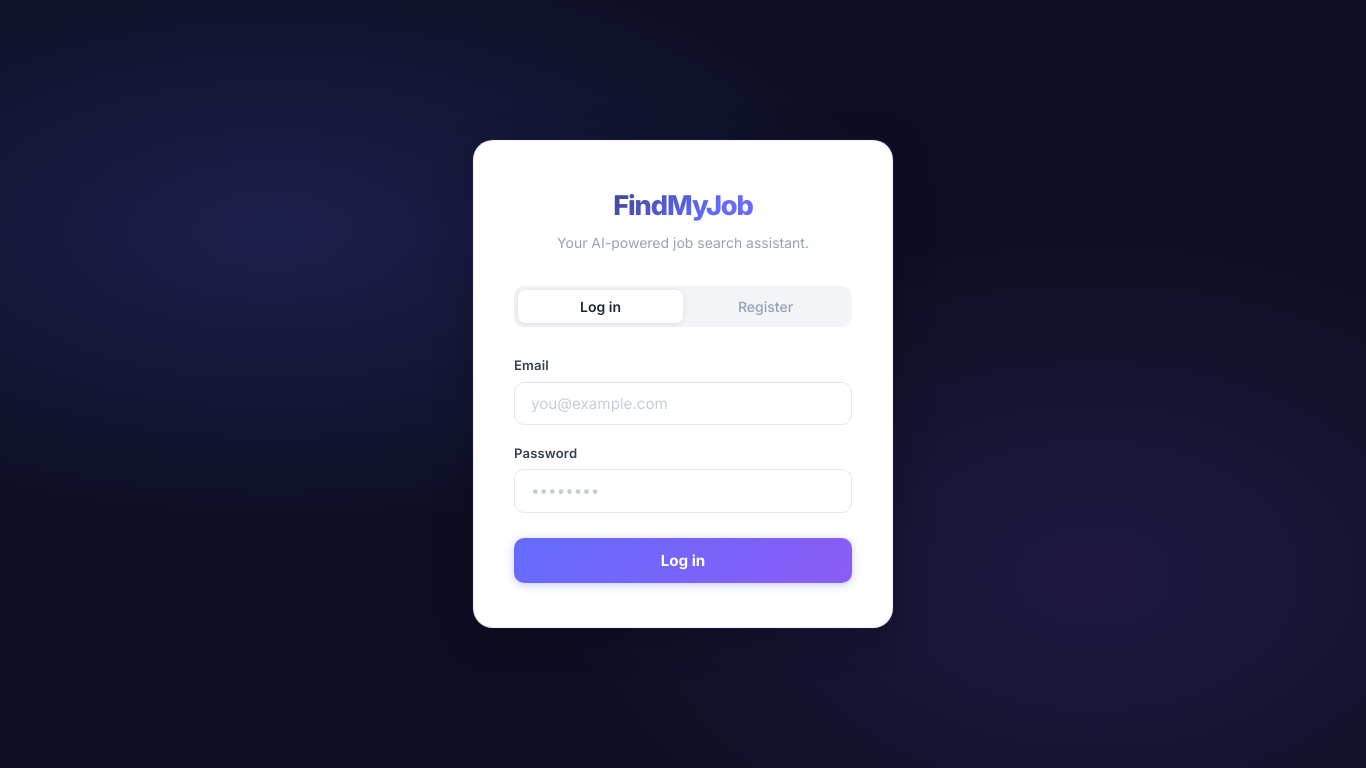
it: AuthPage › afișează eroarea primită de la server la login eșuat
In the field labelled "Email": x=683, y=403 [514,382,852,425], type "a@b.com"
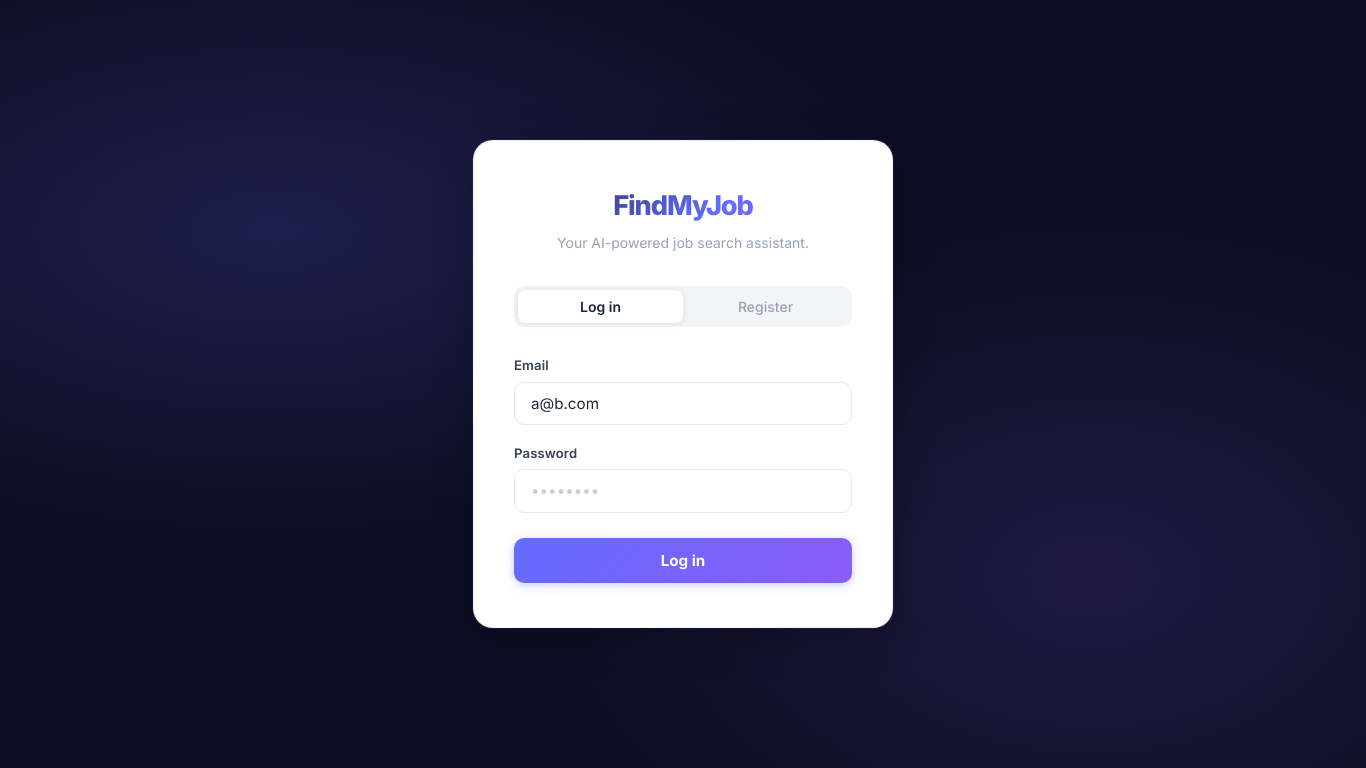
In the password field labelled "Password": x=683, y=491 [514,469,852,513], type "wrong"
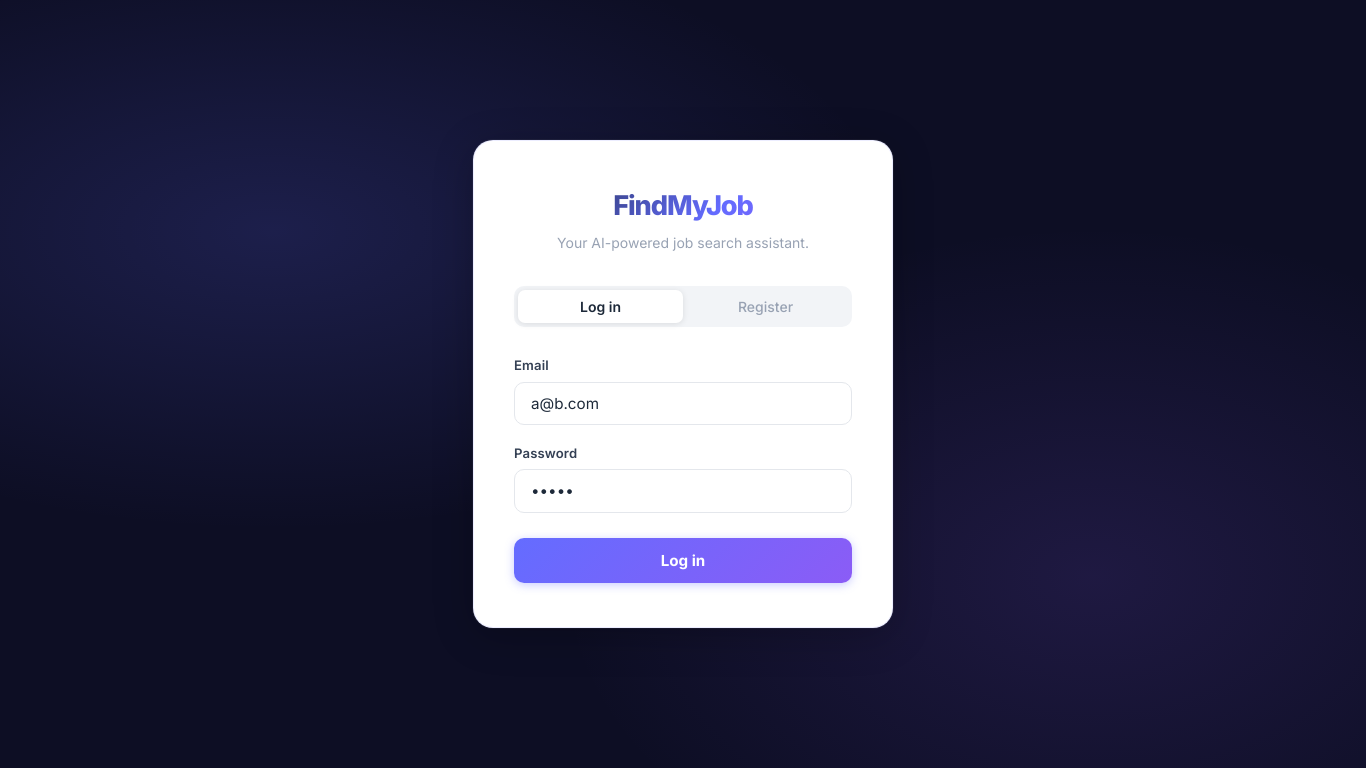
Click the button "Log in" below "Password": x=683, y=560 [514,538,852,583]
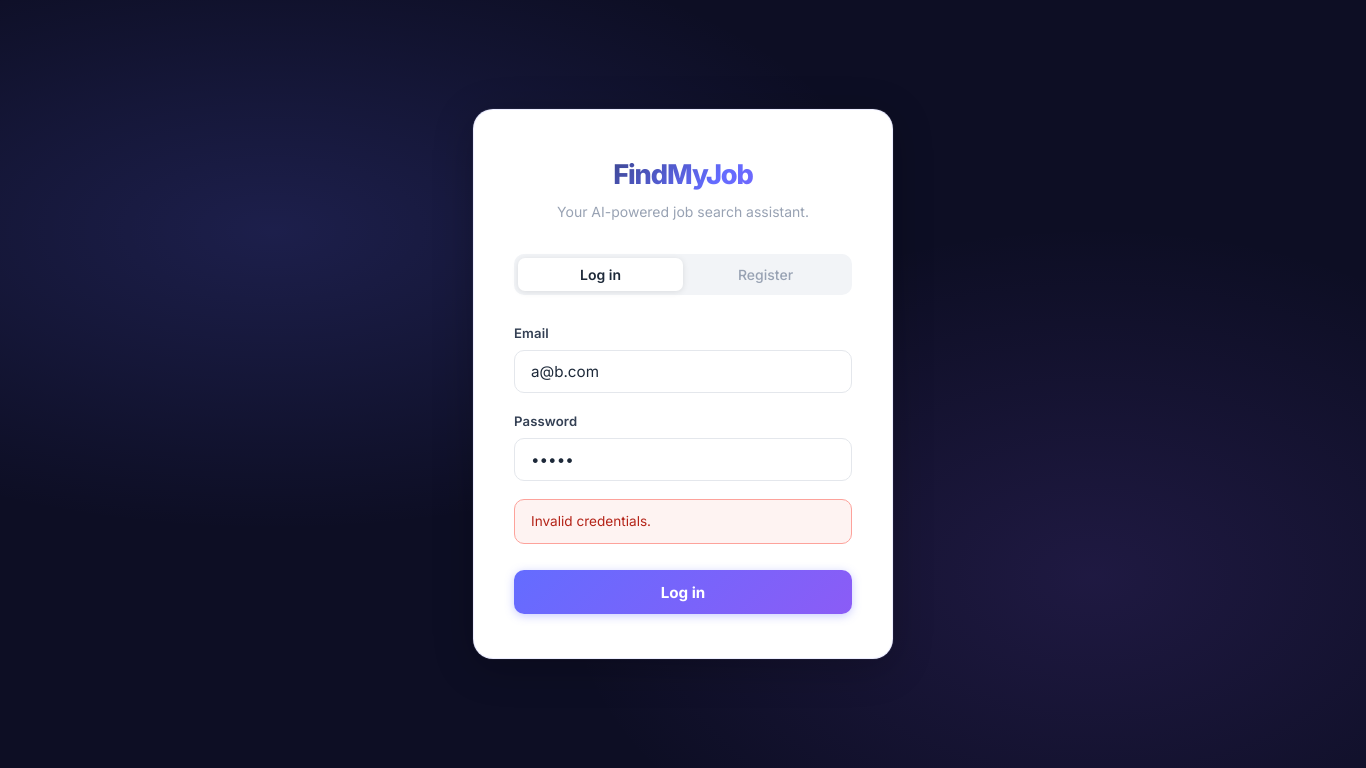
Expected: the text "Invalid credentials." is shown, [514,499,852,544]
